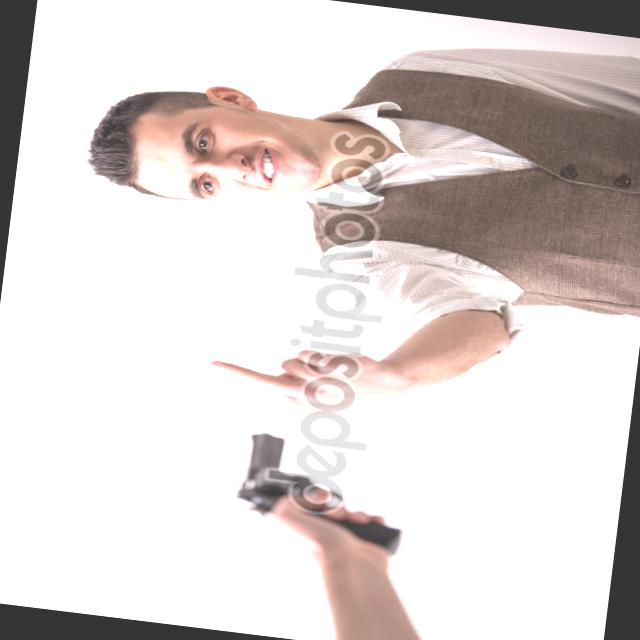handgun: (202, 420, 436, 564)
